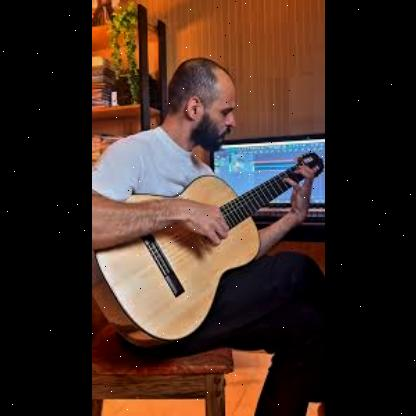acousticguitar: (91, 154, 325, 350)
